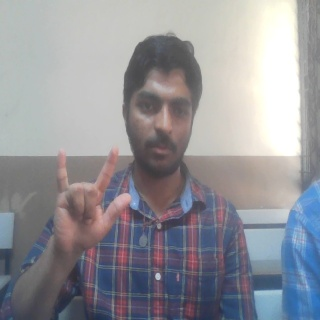Face: (120, 33, 204, 182)
I Love You: (50, 143, 131, 256)
